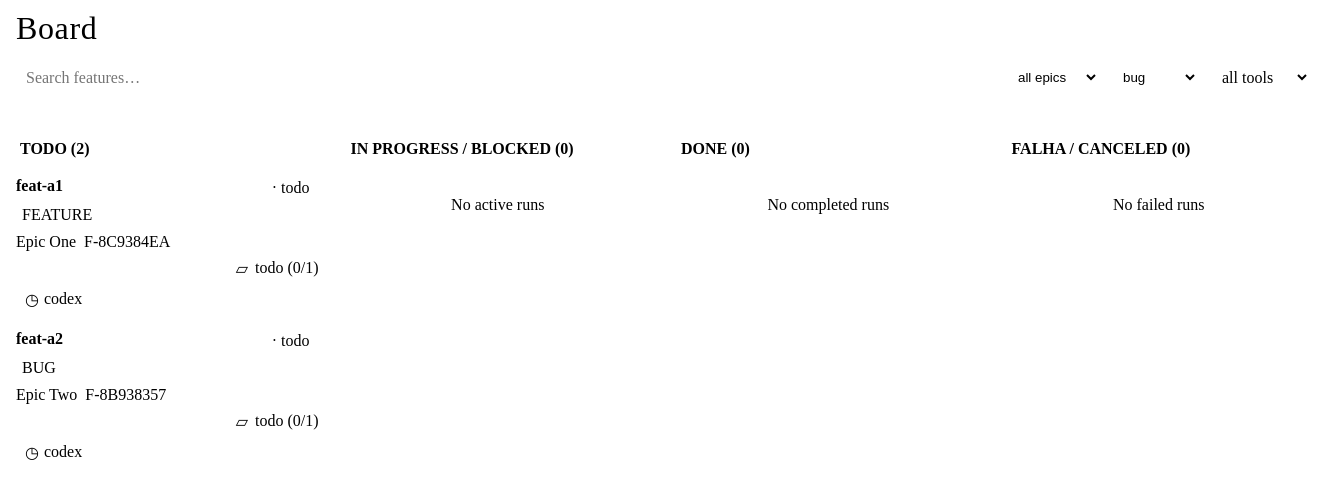
BoardPage Project scope › narrows to the selected type across the active Project
The width and height of the screenshot is (1324, 477).
Select "bug" in the 2nd dropdown at x=1154, y=78, box [1109,62,1198,93]
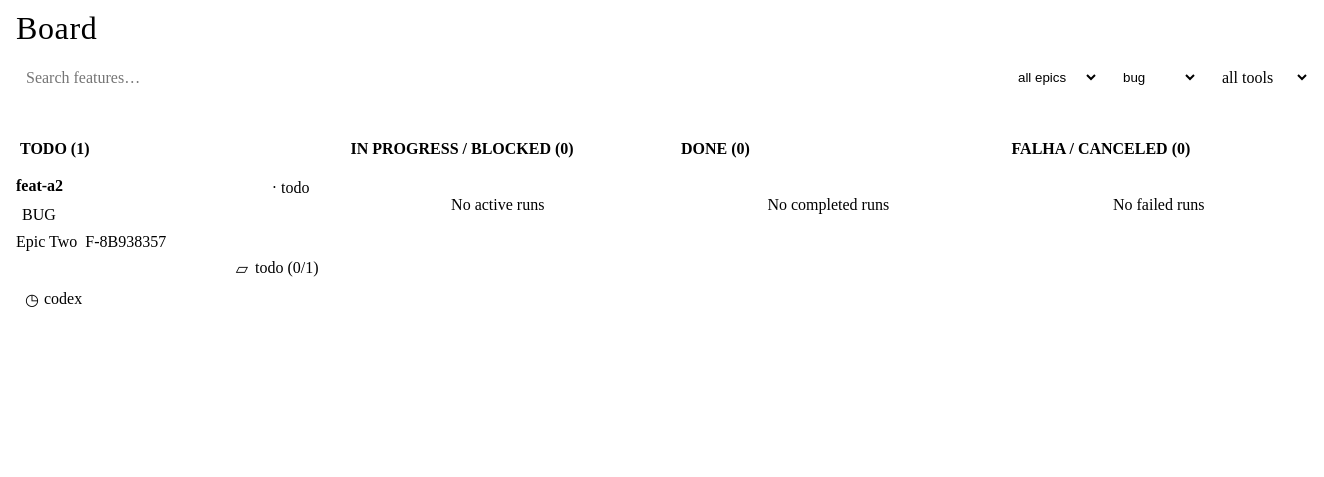
Check: the text "feat-a2" is shown, box [16,177,63,194]
Check: the text "feat-a1" is gone
